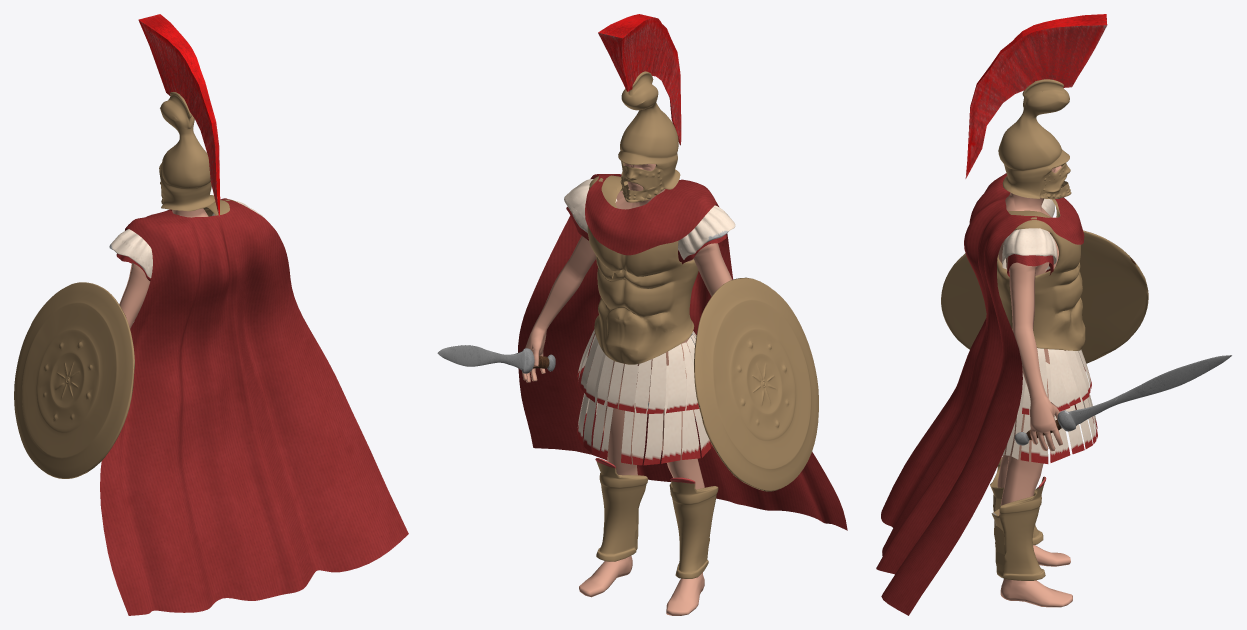
Rendered from MacedonianSoldierScaled.fbx.
The picture shows the model from 3 angles, left to right: view 1: azimuth 30°, elevation 25°; view 2: azimuth 150°, elevation 25°; view 3: azimuth 270°, elevation 25°; orthographic projection. The views are drawn at different scales.
Visible parts, largest first — view 1: Object_6, Object_7, Object_9, Object_5, Object_2; view 2: Object_6, Object_7, Object_4, Object_2, Object_5, Object_9; view 3: Object_6, Object_7, Object_2, Object_5, Object_9, Object_4.
Part boxes in pixels (x1,y1,x2,y2): Object_6: [100, 198, 408, 615]; Object_7: [14, 201, 262, 478]; Object_9: [138, 14, 220, 216]; Object_5: [159, 92, 215, 211]; Object_2: [119, 208, 208, 328]; Object_6: [437, 174, 847, 561]; Object_7: [564, 179, 818, 578]; Object_4: [587, 175, 698, 364]; Object_2: [522, 163, 732, 615]; Object_5: [576, 71, 680, 458]; Object_9: [598, 14, 681, 145]; Object_6: [876, 173, 1231, 615]; Object_7: [941, 198, 1148, 571]; Object_2: [997, 165, 1072, 607]; Object_5: [998, 79, 1097, 463]; Object_9: [965, 14, 1107, 178]; Object_4: [997, 199, 1085, 350].
Bounding box in the file's own units: 0.2407 × 0.2352 × 0.4104.
6 materials, 3 textured.
